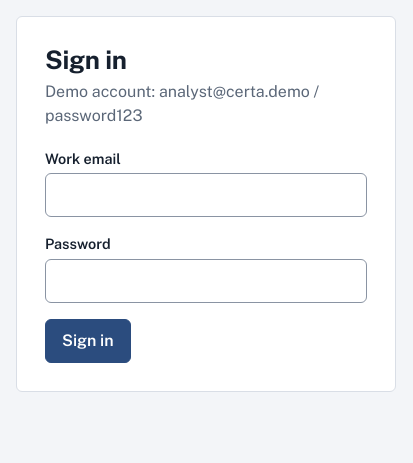
Test: login form › shows client-side errors without calling the server
Click the button "Sign in" at (88, 341), box [45,319,131,363]
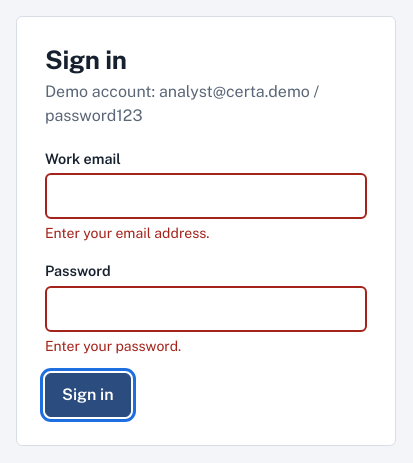
Check: the text "Enter your email address." is shown, box [45,226,210,242]
